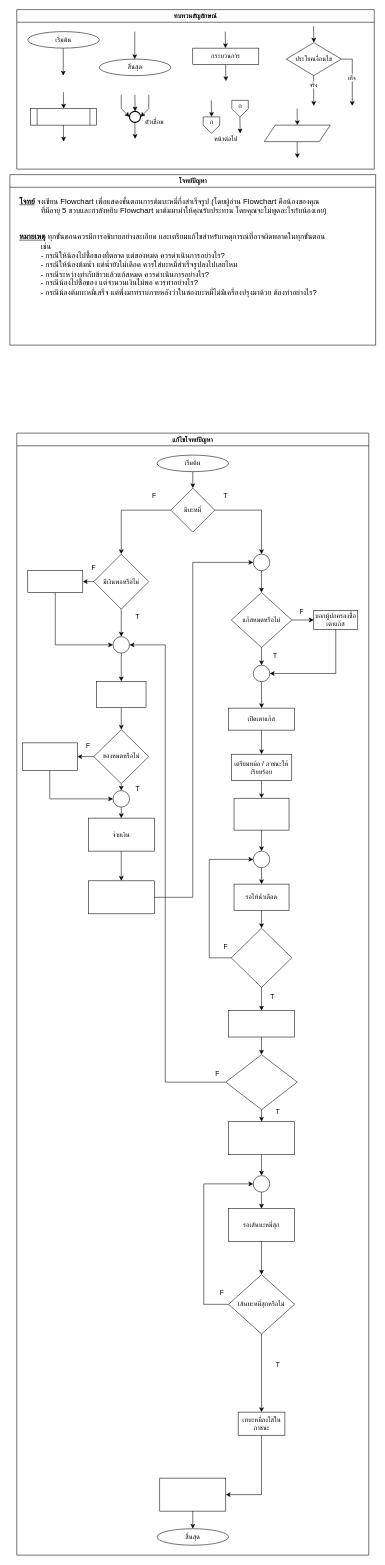
Image size: 385x1565. Some labels were removed from this diagram. The shapes that lost their labels are listed below. From the top down, each one's centre as x and y in pixels, then its label:
At pixel 63 116: "ฟังก์ชัน/โมดูล".
At pixel 297 133: "แสดงผล/รับค่า".
At pixel 55 581: "ขอเงินผู้ปกครองเพิ่ม".
At pixel 121 694: "ไปซื้อของที่ตลาด".
At pixel 49 756: "ซื้อของร้านอื่น".
At pixel 261 814: "เปิดน้ำใส่".
At pixel 121 897: "กลับบ้าน".
At pixel 261 958: "น้ำเดือดหรือไม่".
At pixel 261 1023: "ใส่เส้นบะหมี่".
At pixel 261 1082: "ที่ซองมีเครื่องปรุงหรือไม่".
At pixel 261 1138: "ใส่เครื่องปรุง".
At pixel 192 1494: "พร้อมรับประทาน".
